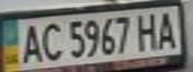5: (63, 17, 84, 59)
6: (100, 15, 118, 56)
7: (112, 12, 136, 54)
9: (81, 16, 103, 57)
A: (15, 21, 45, 64), (154, 8, 178, 50)
C: (36, 20, 63, 62)
H: (136, 10, 163, 52)
